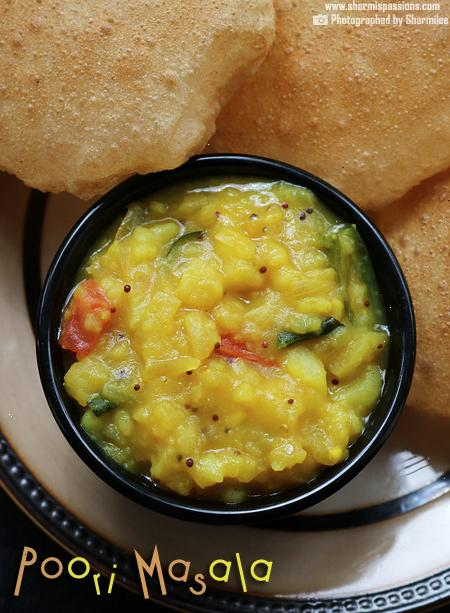puri: (3, 3, 450, 158)
